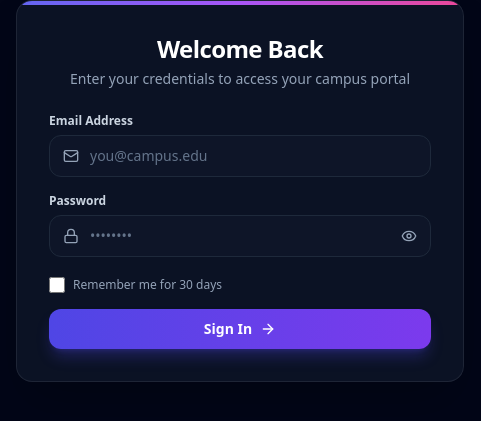
Test: LoginForm Component › validates minimum password length
Type "student@campus.edu" into the field labelled "Email Address" at (240, 156), box [49,135,431,177]
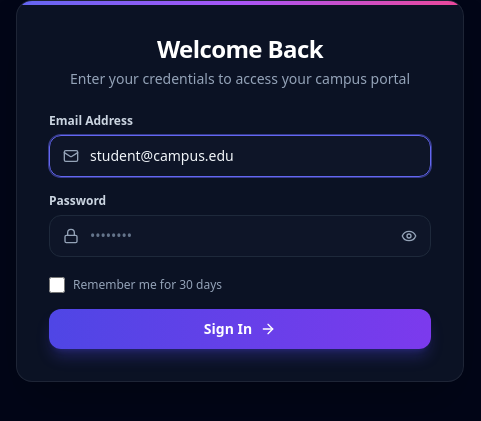
Type "123" into the password field labelled "Password" at (240, 236), box [49,215,431,257]
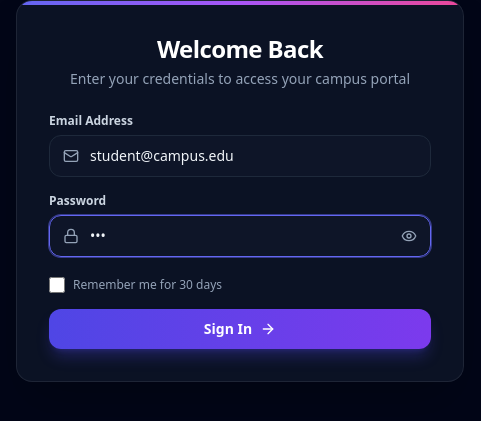
Click the button "Sign In" at (240, 329), box [49,309,431,349]
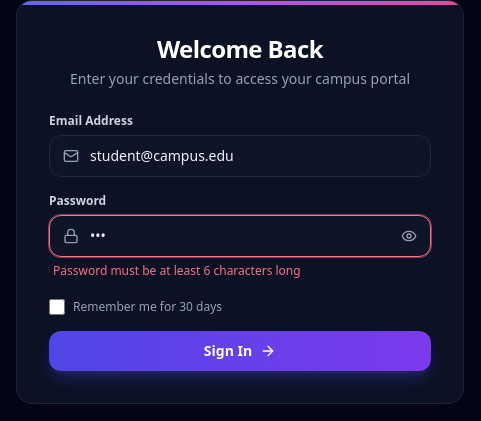
Check: the text "Password must be at least 6 characters long" is shown, box [53,262,301,279]
